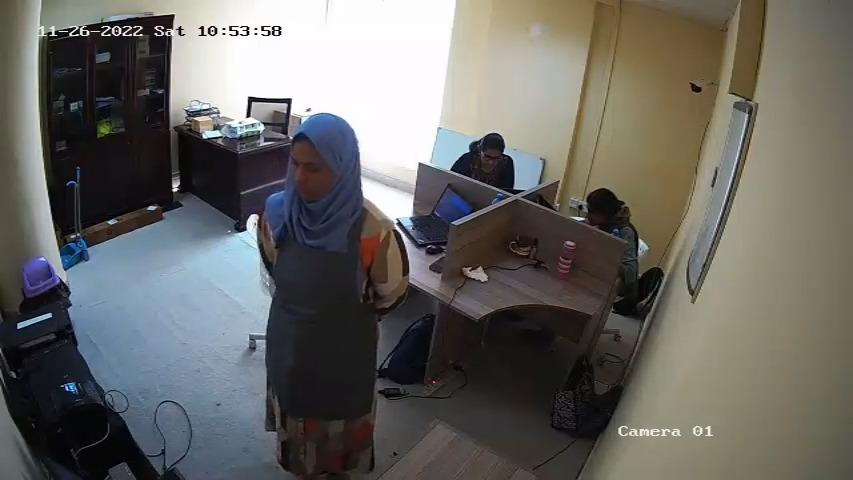apron: (259, 199, 379, 430)
